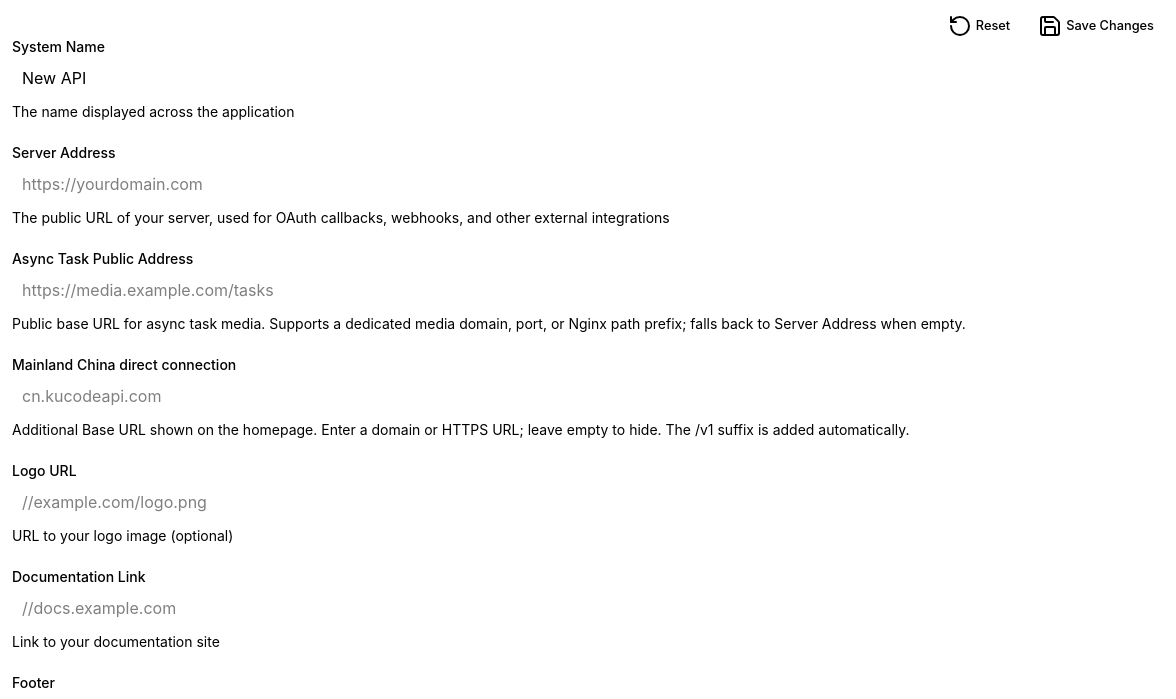
Test case: an unsafe address shows a field error and is not submitted
The width and height of the screenshot is (1176, 699).
Type "https://user:secret@cn.example.com" into the field labelled "Mainland China direct connection".
click(588, 396); type("https://user:secret@cn.example.com")  # box x1=12 y1=380 x2=1164 y2=412
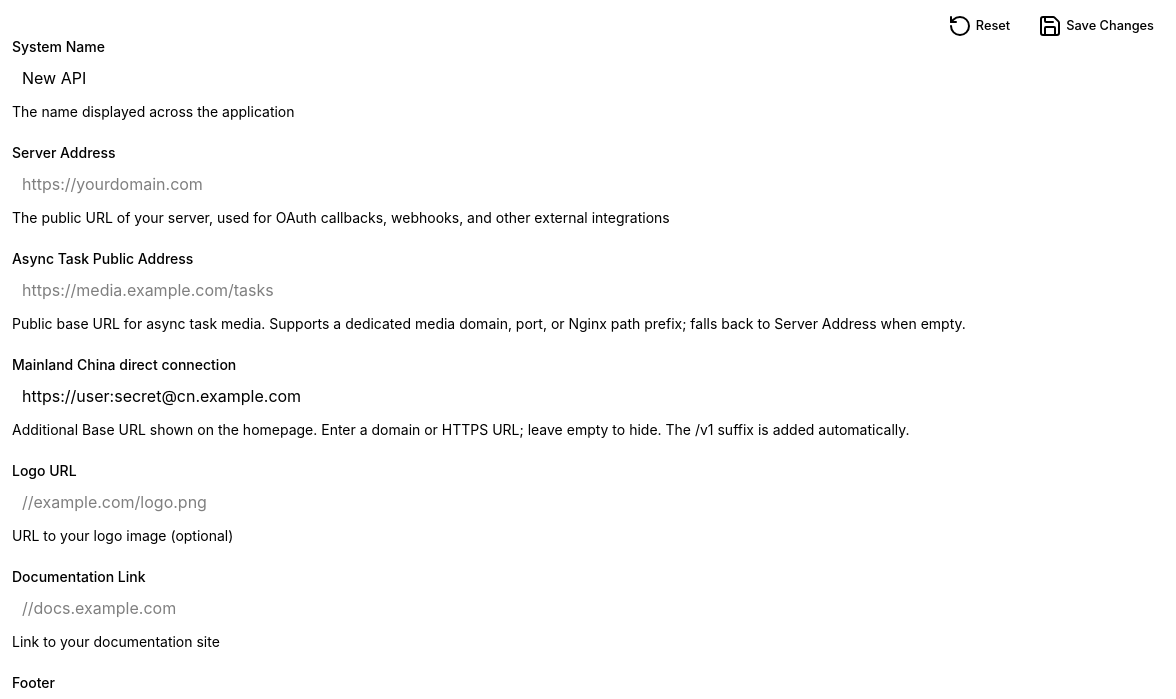
Click the button "Save Changes".
click(1096, 26)  # box x1=1028 y1=12 x2=1164 y2=40
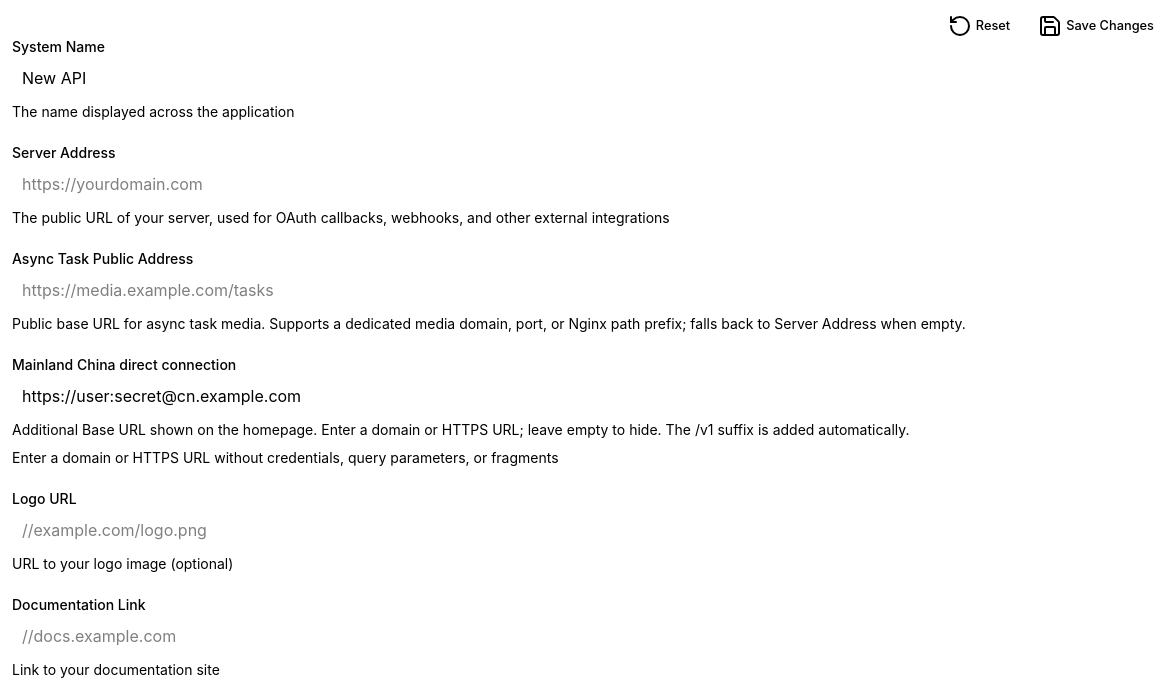
Now the text "Enter a domain or HTTPS URL without credentials, query parameters, or fragments" is shown, box x1=12 y1=449 x2=559 y2=466
